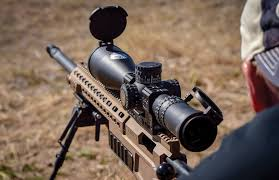Gun: (44, 42, 220, 142)
